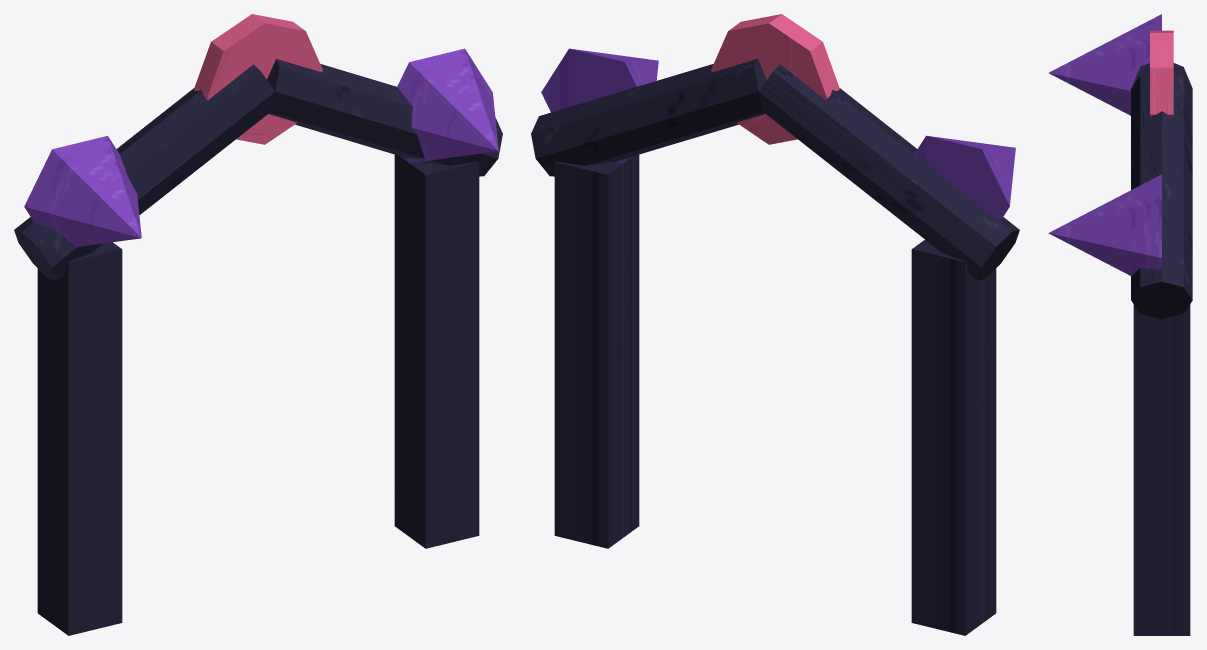
The model's file is yomi_rift_gate_lod1.glb.
The picture shows the model from 3 angles, left to right: view 1: azimuth 30°, elevation 25°; view 2: azimuth 150°, elevation 25°; view 3: azimuth 270°, elevation 25°; orthographic projection. The views are drawn at different scales.
Visible parts, largest first — view 1: obsidian_2, obsidian_0, obsidian_4, obsidian_5, rift_1, rift_3, ember_6; view 2: obsidian_2, obsidian_0, obsidian_4, obsidian_5, ember_6, rift_1, rift_3; view 3: obsidian_2, obsidian_5, rift_3, rift_1, ember_6, obsidian_4.
Part boxes in pixels (x1,y1,x2,y2): obsidian_2: [394, 154, 479, 548]; obsidian_0: [37, 242, 122, 635]; obsidian_4: [14, 64, 274, 280]; obsidian_5: [267, 59, 502, 176]; rift_1: [24, 135, 141, 246]; rift_3: [397, 48, 498, 163]; ember_6: [194, 14, 322, 144]; obsidian_2: [554, 154, 639, 548]; obsidian_0: [911, 240, 996, 635]; obsidian_4: [759, 64, 1019, 280]; obsidian_5: [531, 59, 766, 176]; ember_6: [711, 14, 839, 144]; rift_1: [914, 135, 1015, 221]; rift_3: [541, 48, 658, 163]; obsidian_2: [1133, 304, 1190, 635]; obsidian_5: [1131, 73, 1192, 318]; rift_3: [1048, 174, 1161, 276]; rift_1: [1049, 14, 1161, 115]; ember_6: [1150, 30, 1173, 116]; obsidian_4: [1131, 63, 1191, 87].
Size of the model in its own units: 10.6 by 11.9 by 3.05.
Materials: 3 (3 with a texture image).
